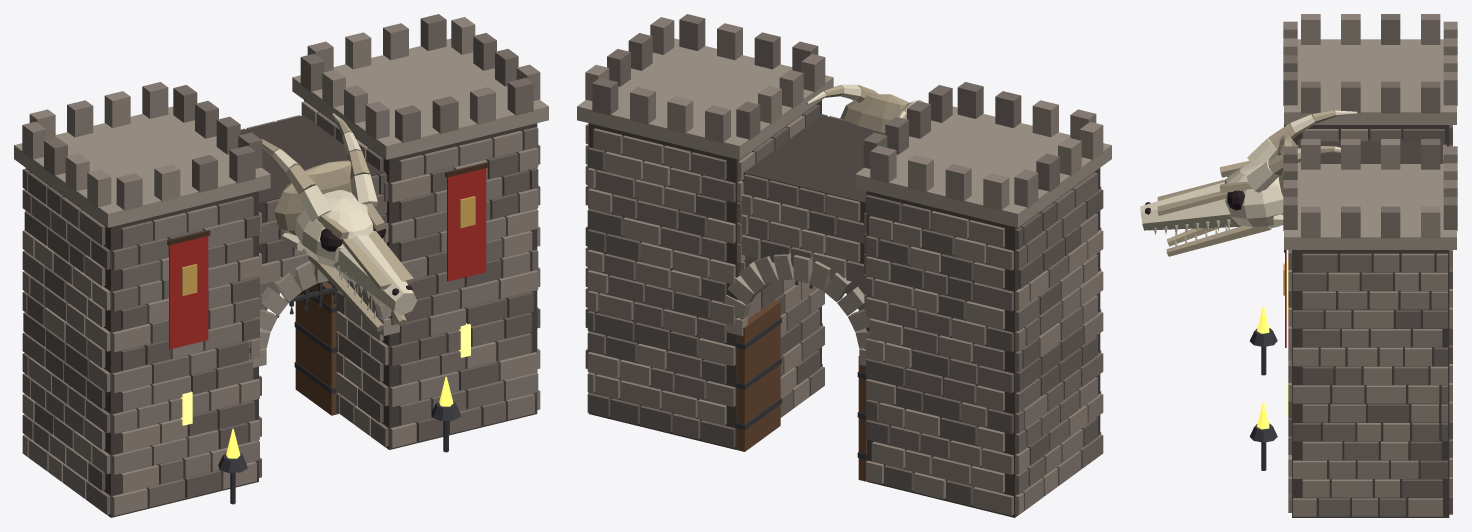
File: gate.glb
3 views of the same model, side by side, from view 1: azimuth 30°, elevation 25°; view 2: azimuth 150°, elevation 25°; view 3: azimuth 270°, elevation 25° (orthographic). The views are drawn at different scales.
Parts seen in each view (by area): view 1: gatehouse, dragon_skull, gate_banner_0, gate_banner_2; view 2: gatehouse, dragon_skull; view 3: gatehouse, dragon_skull.
Boxes of the visible parts, <box> form: gatehouse: <box>14,14,548,517</box>; dragon_skull: <box>261,113,417,331</box>; gate_banner_0: <box>167,230,210,349</box>; gate_banner_2: <box>445,162,488,281</box>; gatehouse: <box>577,14,1111,517</box>; dragon_skull: <box>806,84,923,132</box>; gatehouse: <box>1249,14,1457,517</box>; dragon_skull: <box>1140,110,1357,256</box>.
Bounding box in the file's own units: 14.95 × 10.85 × 10.11.
